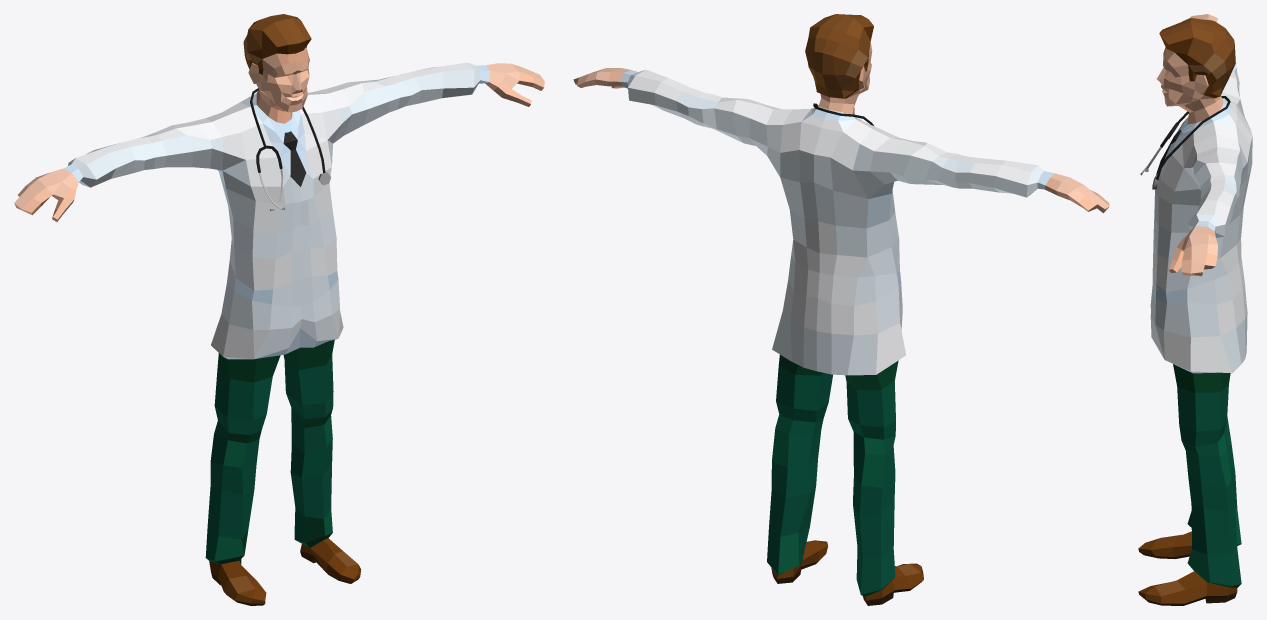
Rendered from DrDab.glb.
The picture shows the model from 3 angles, left to right: view 1: azimuth 30°, elevation 25°; view 2: azimuth 150°, elevation 25°; view 3: azimuth 270°, elevation 25°; orthographic projection.
Visible parts, largest first — view 1: Model (×2); view 2: Model; view 3: Model (×2).
Part boxes in pixels (x1,y1,x2,y2): Model (×2): [14, 14, 544, 605]; Model: [573, 14, 1109, 605]; Model (×2): [1138, 14, 1252, 605].
Bounding box in the file's own units: 66.42 × 67.42 × 12.56.
2 materials, 2 textured.
